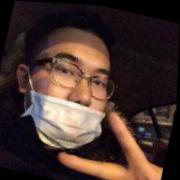WRONG: (22, 44, 120, 152)
